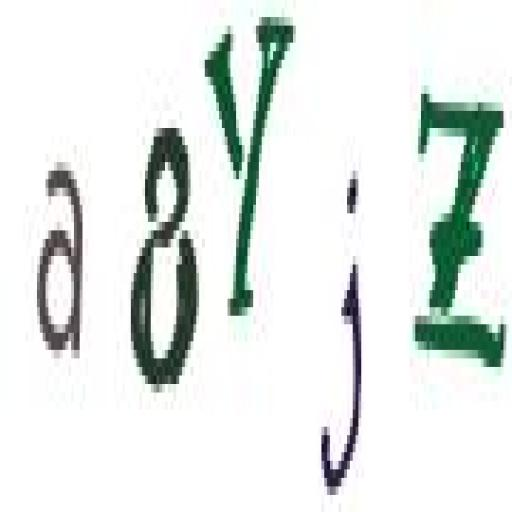8: (126, 108, 206, 399)
Y: (199, 9, 298, 342)
Z: (410, 74, 512, 392)
a: (32, 143, 94, 375)
j: (318, 158, 368, 508)
